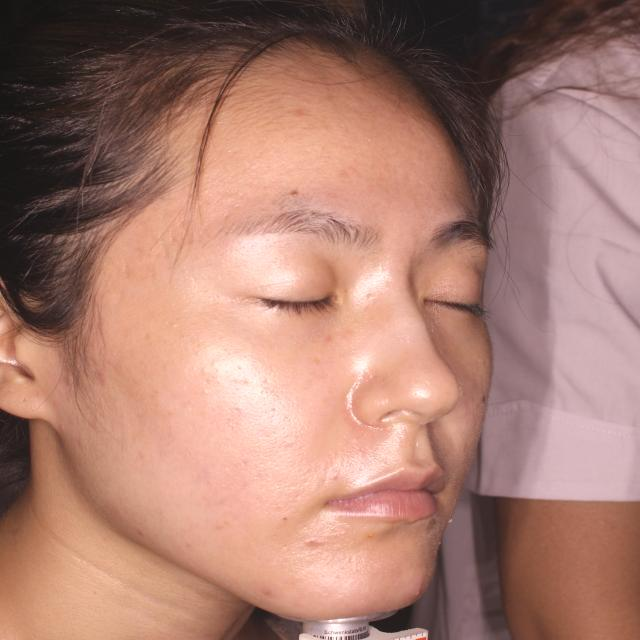acne: (259, 577, 276, 603), (301, 533, 319, 552)
